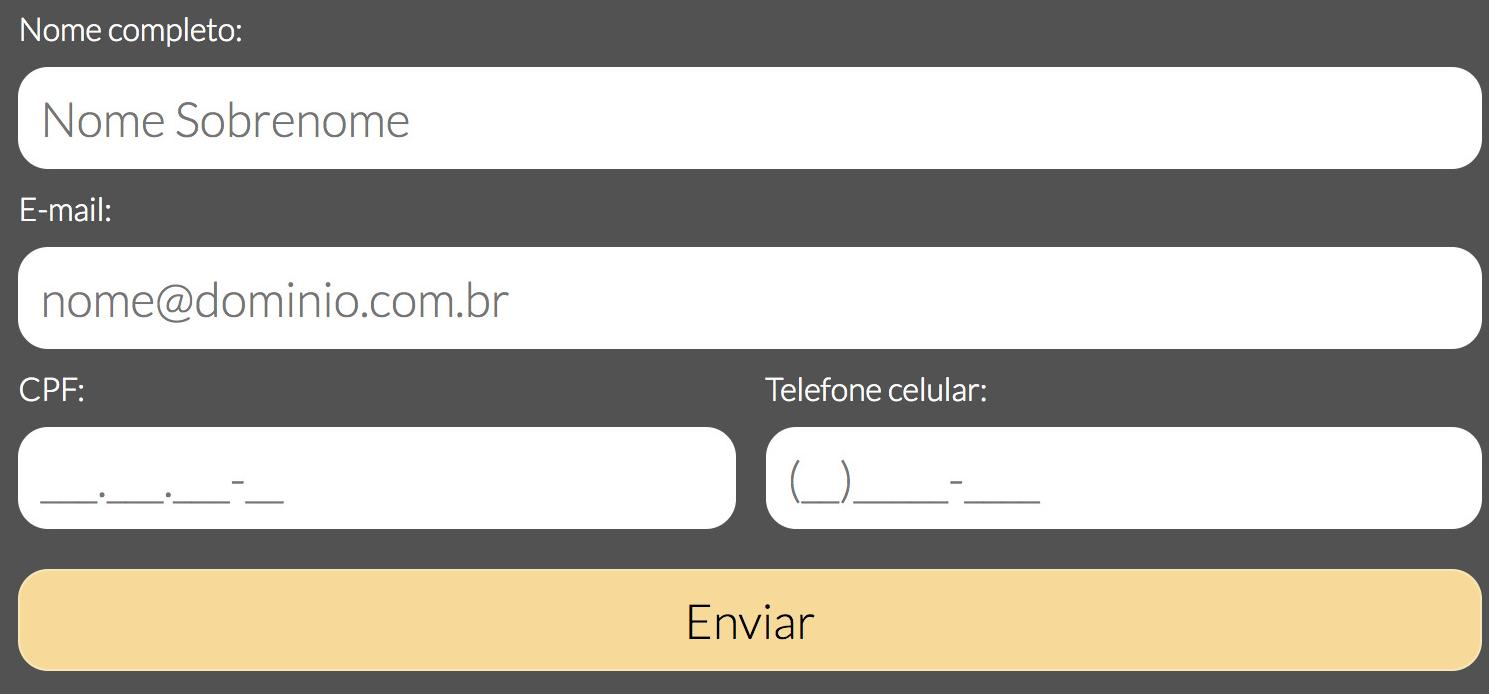button: (12, 564, 1486, 675)
field: (13, 63, 1487, 173), (13, 243, 1486, 352), (9, 422, 742, 534), (762, 425, 1486, 533)
